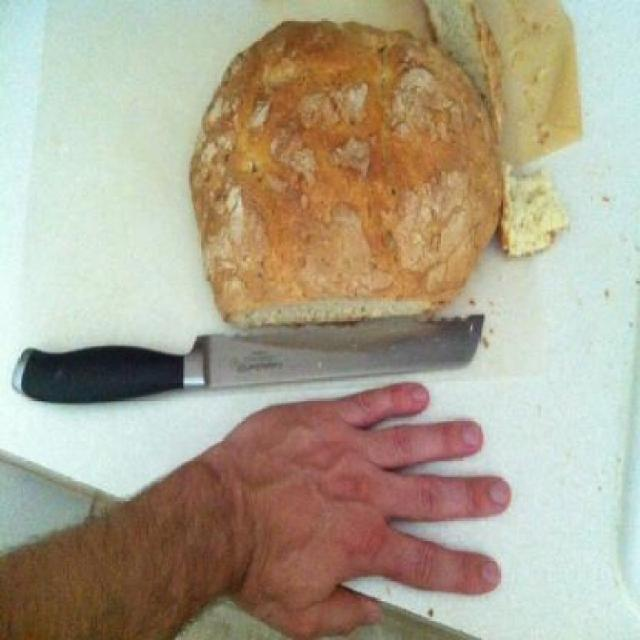Bread: (178, 3, 498, 349), (428, 0, 499, 132), (505, 164, 569, 253)
